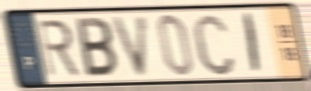0: (156, 12, 195, 79)
B: (74, 16, 119, 80)
C: (190, 11, 238, 79)
I: (242, 11, 263, 77)
R: (35, 17, 83, 80)
V: (109, 13, 151, 80)
